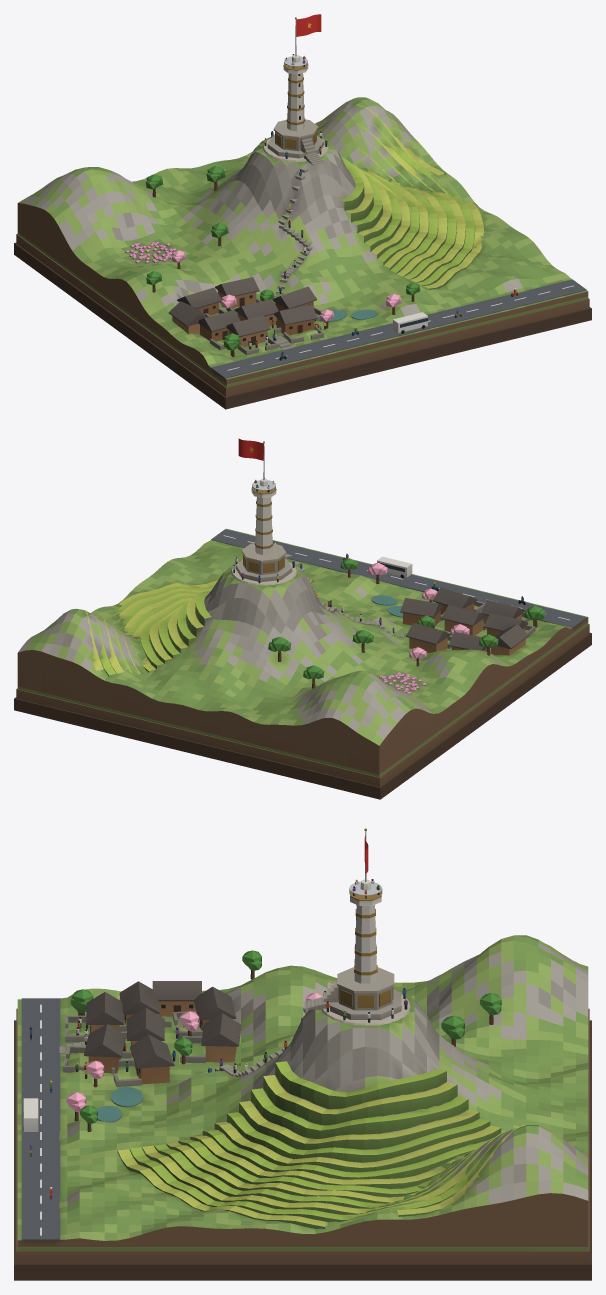
The model's file is cot-co-lung-cu.glb.
3 views of the same model, one above another, from view 1: azimuth 30°, elevation 25°; view 2: azimuth 150°, elevation 25°; view 3: azimuth 270°, elevation 25° (orthographic). The views are drawn at different scales.
Parts seen in each view (by area): view 1: LC_b_LC_blossom; view 2: LC_b_LC_blossom; view 3: LC_b_LC_blossom.
Part boxes in pixels (x1,y1,x2,y2): LC_b_LC_blossom: (14, 14, 591, 409); LC_b_LC_blossom: (14, 438, 591, 799); LC_b_LC_blossom: (14, 828, 591, 1280).
Bounding box in the file's own units: 92 × 59.8 × 92.
Materials: 1 (1 with a texture image).
